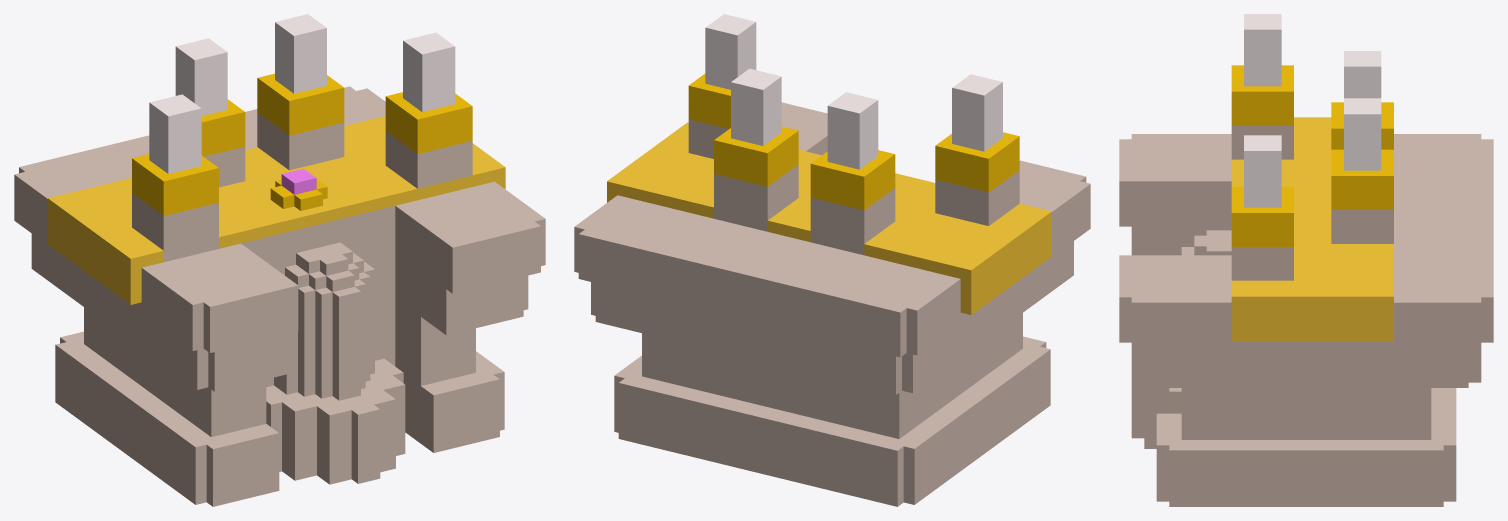
3 renders of one model, left to right at view 1: azimuth 30°, elevation 25°; view 2: azimuth 150°, elevation 25°; view 3: azimuth 270°, elevation 25°, orthographic. The views are drawn at different scales.
Visible parts, largest first — view 1: L010, L008, L3, L007, L009; view 2: L010, L008, L3, L007; view 3: L010, L008, L007, L3.
Part boxes in pixels (bbox=[...]): L010: bbox=[14, 86, 545, 506]; L008: bbox=[48, 116, 505, 304]; L3: bbox=[149, 14, 455, 173]; L007: bbox=[132, 73, 472, 215]; L009: bbox=[281, 168, 316, 194]; L010: bbox=[574, 102, 1090, 506]; L008: bbox=[607, 122, 1051, 314]; L3: bbox=[705, 14, 1002, 169]; L007: bbox=[688, 73, 1019, 210]; L010: bbox=[1119, 125, 1493, 506]; L008: bbox=[1231, 117, 1393, 341]; L007: bbox=[1231, 65, 1393, 246]; L3: bbox=[1244, 14, 1381, 207].
Size of the model in its own units: 340 by 310 by 300.
5 materials, 5 textured.
